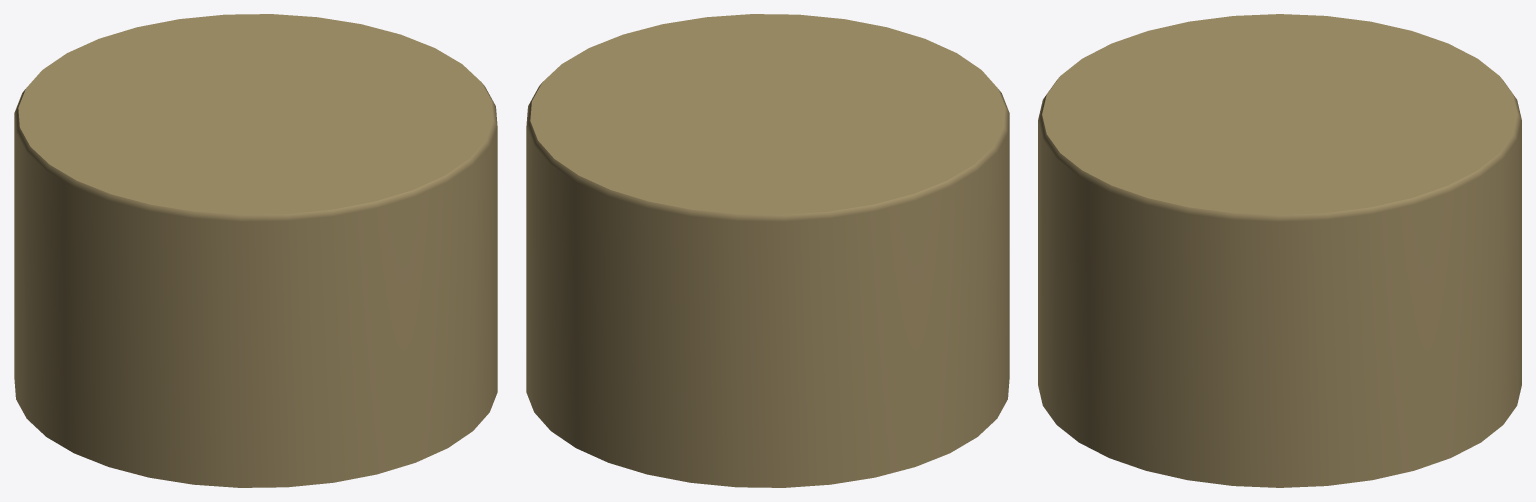
The model's file is G_Metal_011.fbx.
The picture shows the model from 3 angles, left to right: view 1: azimuth 30°, elevation 25°; view 2: azimuth 150°, elevation 25°; view 3: azimuth 270°, elevation 25°; orthographic projection.
Parts seen in each view (by area): view 1: G_Metal_011; view 2: G_Metal_011; view 3: G_Metal_011.
Boxes of the visible parts, x1,y1,x2,y2 form: G_Metal_011: [14, 14, 497, 487]; G_Metal_011: [526, 14, 1009, 487]; G_Metal_011: [1038, 14, 1521, 487].
Size of the model in its own units: 14.66 by 9.07 by 14.66.
